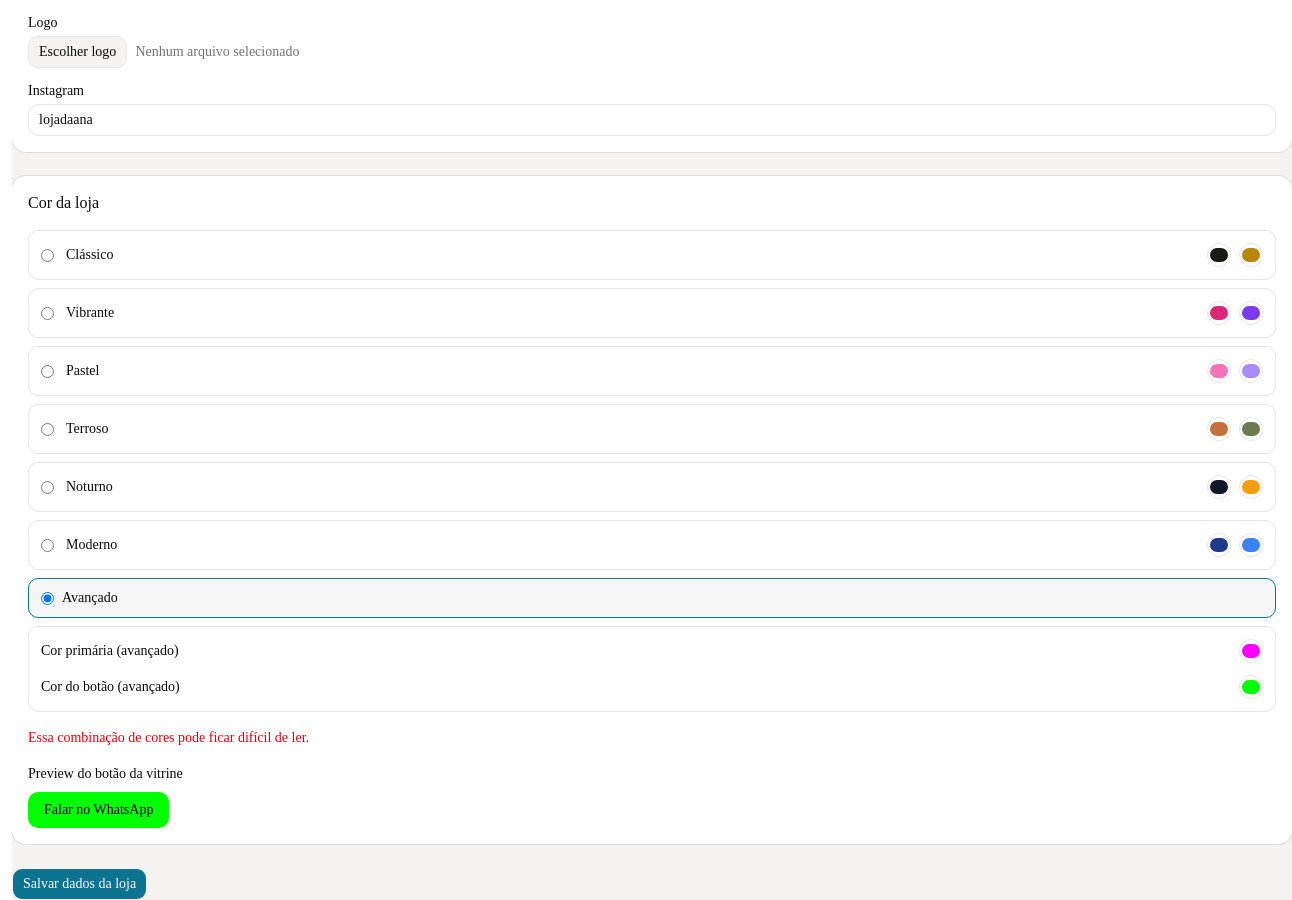
Test: CatalogForm › shows an error message when the API rejects the update
The width and height of the screenshot is (1292, 900).
(page scrolled)
Click the button "Salvar dados da loja" at coordinates (80, 884), box [12,868,147,899]
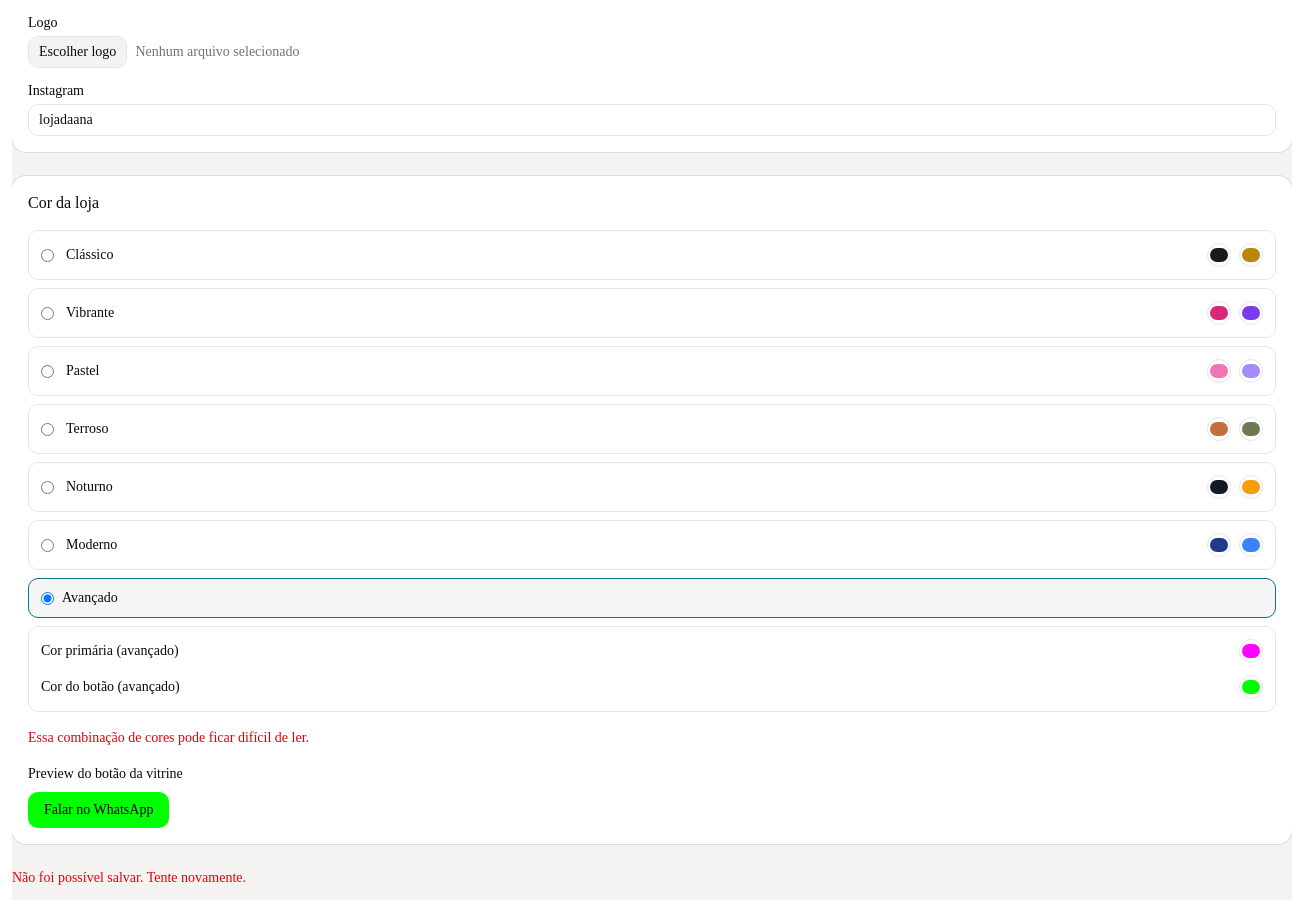
Check: the text "Não foi possível salvar. Tente novamente." is shown, box [12,870,246,885]
